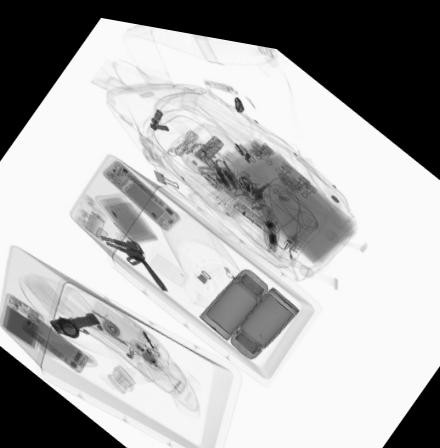Powerbank: (0, 290, 43, 345)
